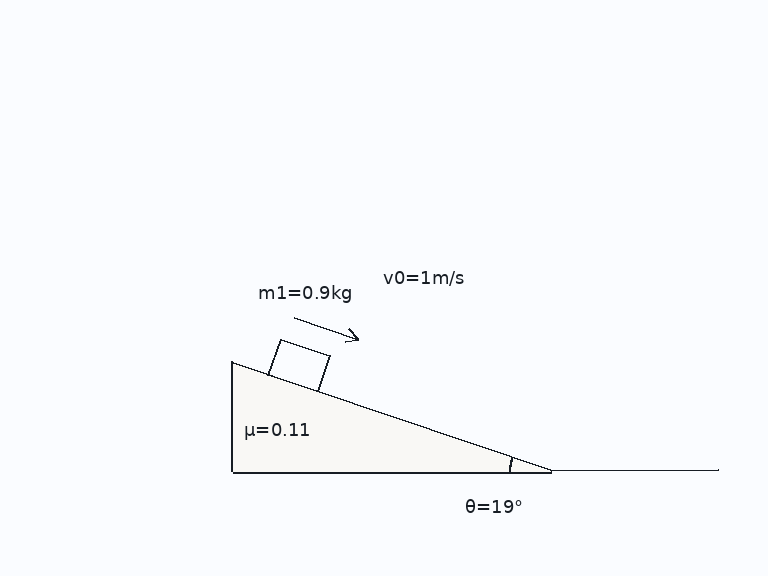block: (266, 337, 331, 393)
ramp: (230, 360, 552, 473)
